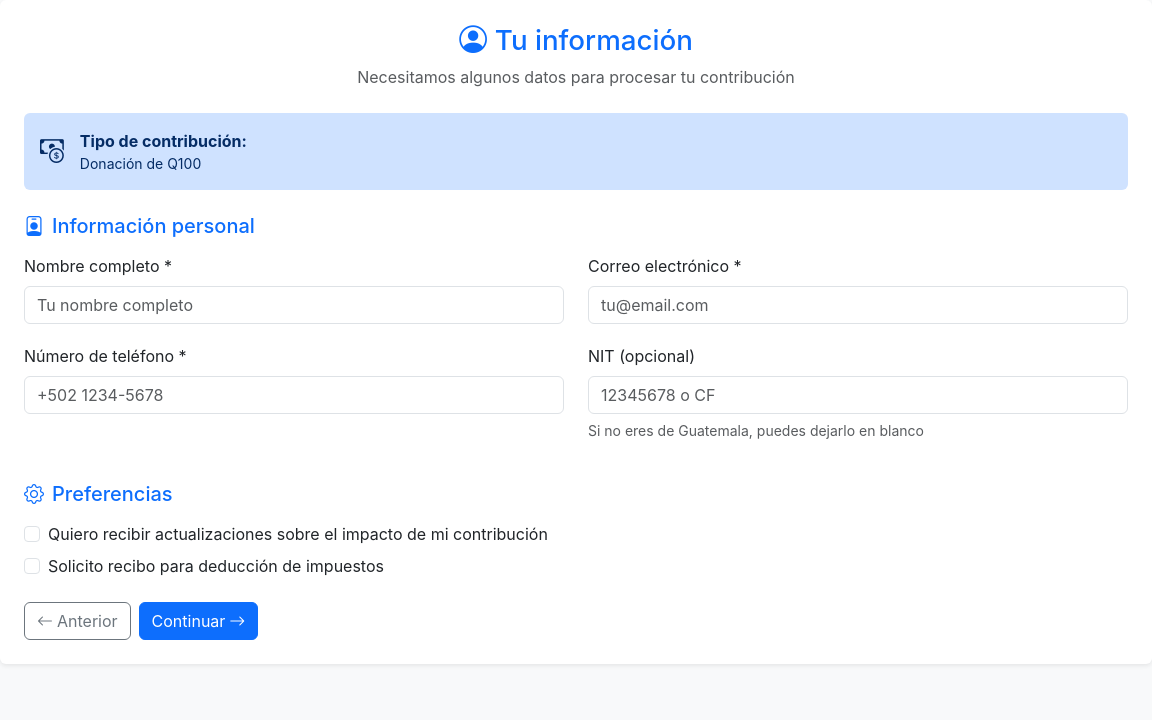
Test: DonorInformation › validates Guatemala phone number format - local format
// Test invalid phone - too short
Type "1234567" into the field labelled "Número de teléfono *" at [294, 395], box [24,376,564,414]
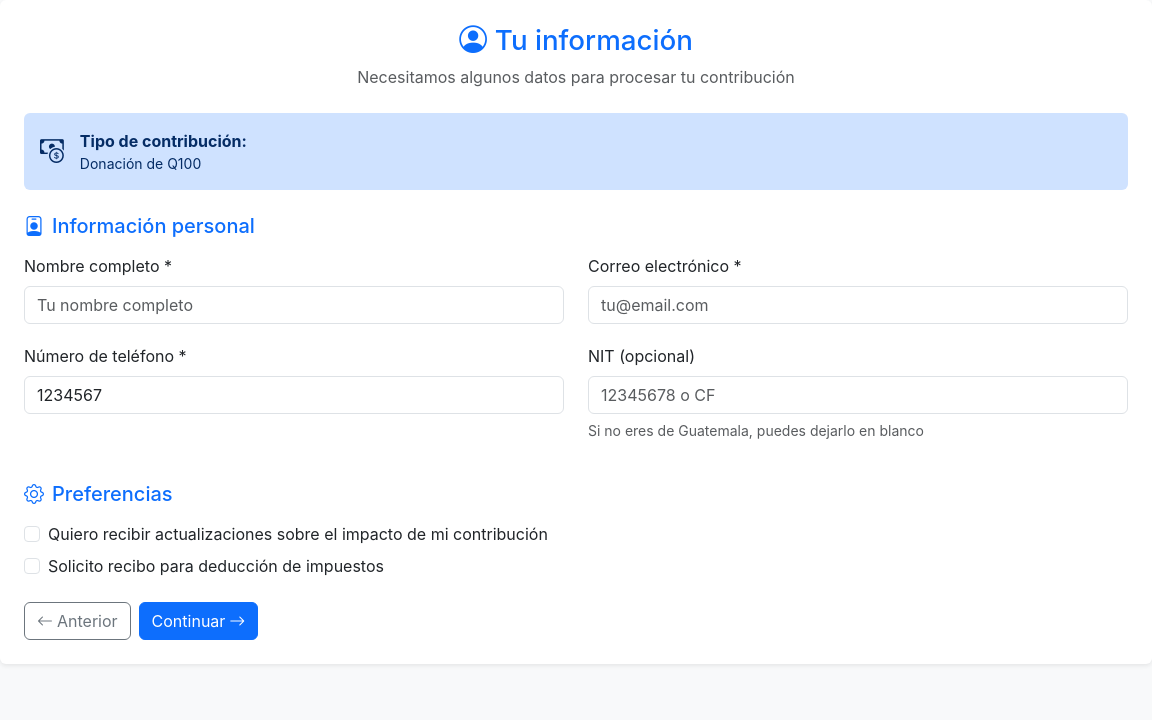
Click the button "Continuar" at [198, 621], box [139,602,258,640]
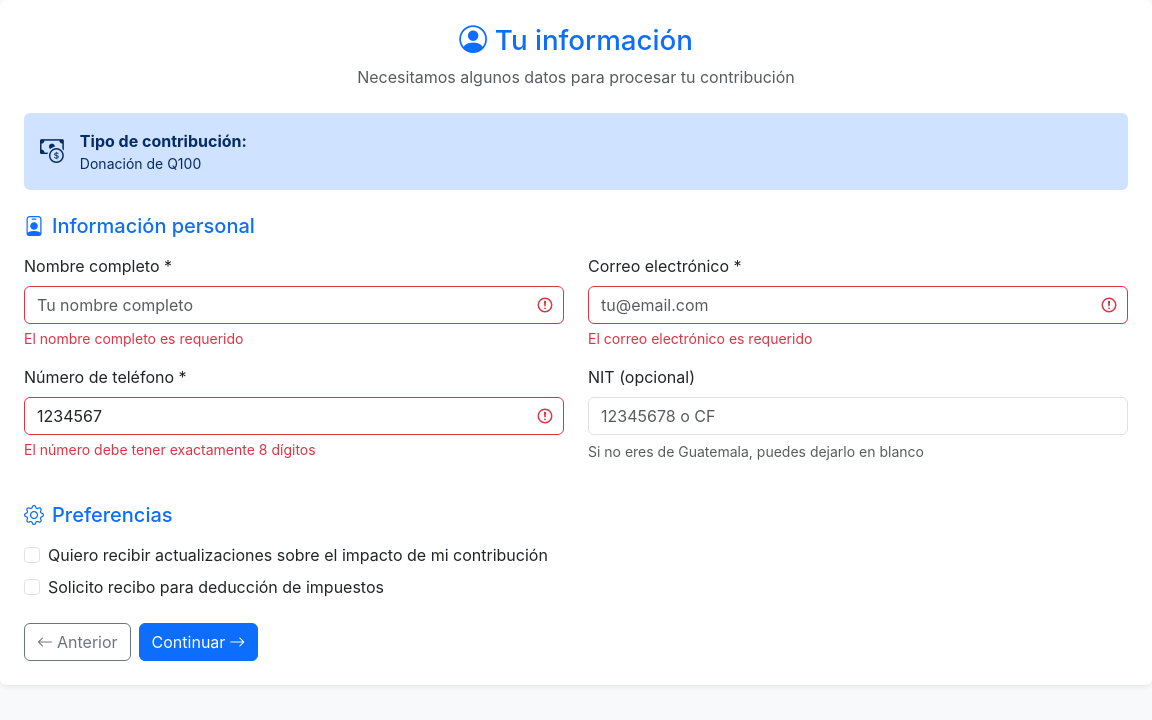
Expected: the text "El número debe tener exactamente 8 dígitos" is shown, [24,441,316,458]
// Test invalid phone - doesn't start with 2-7
Replace the text in the field labelled "Número de teléfono *" with "12345678" at [294, 416], box [24,397,564,435]
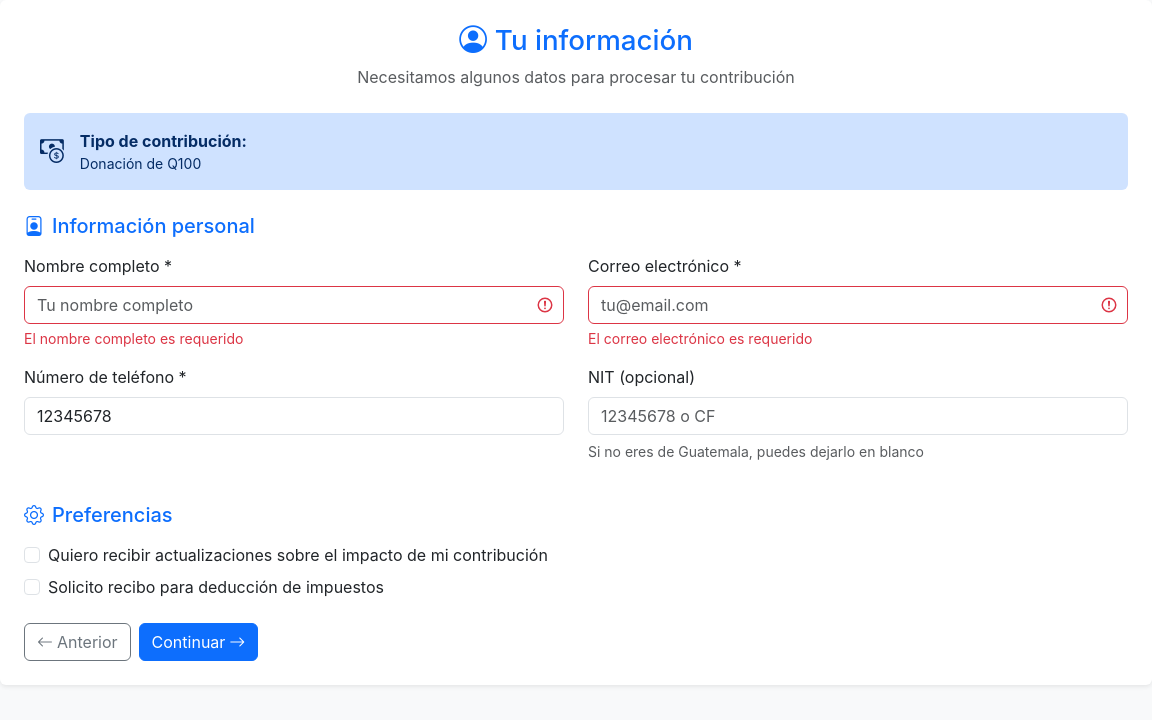
Click the button "Continuar" at [198, 642], box [139,623,258,661]
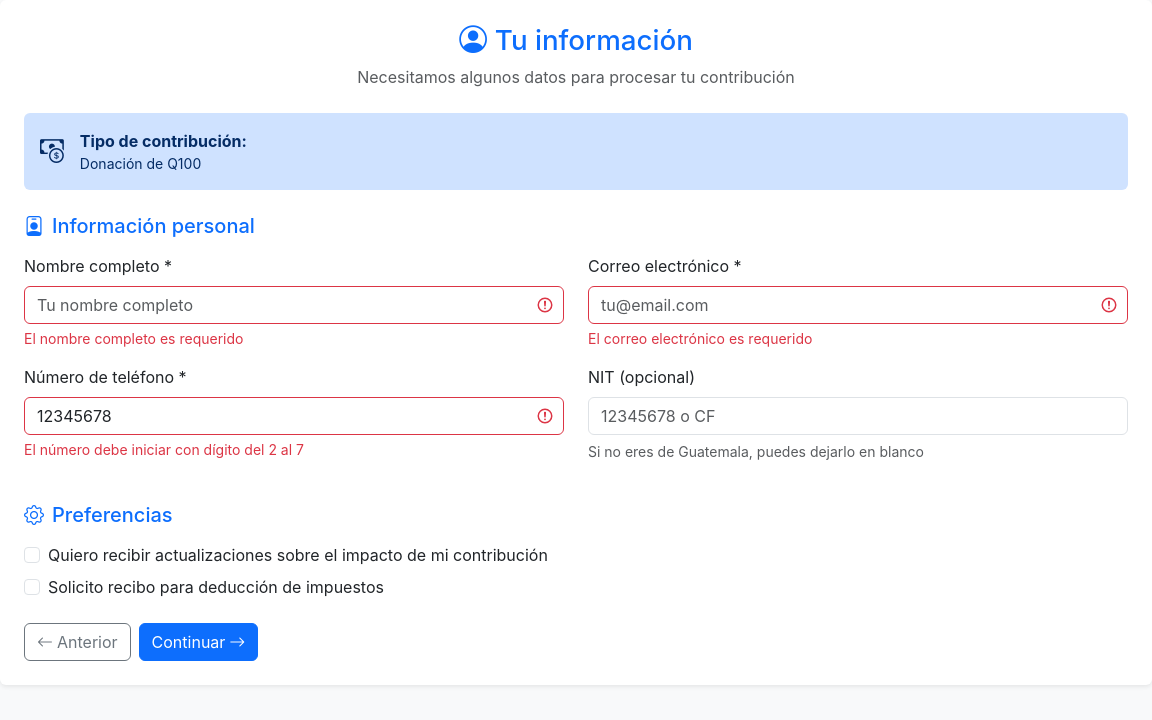
Expected: the text "El número debe iniciar con dígito del 2 al 7" is shown, [24,441,304,458]
